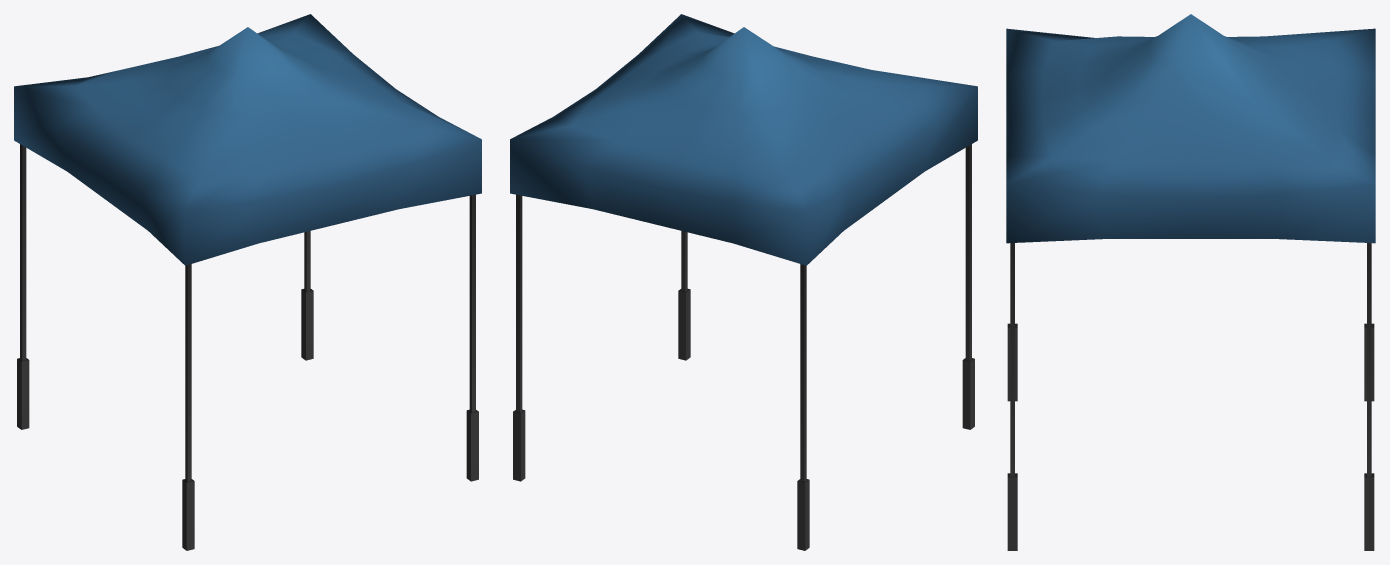
The picture shows the model from 3 angles, left to right: view 1: azimuth 30°, elevation 25°; view 2: azimuth 150°, elevation 25°; view 3: azimuth 270°, elevation 25°; orthographic projection. The views are drawn at different scales.
Visible parts, largest first — view 1: color.011; view 2: color.011; view 3: color.011.
Boxes of the visible parts, <box> form: color.011: <box>14,14,481,550</box>; color.011: <box>510,14,977,550</box>; color.011: <box>1006,14,1375,550</box>.
Bounding box in the file's own units: 0.3639 × 0.5 × 0.3639.
